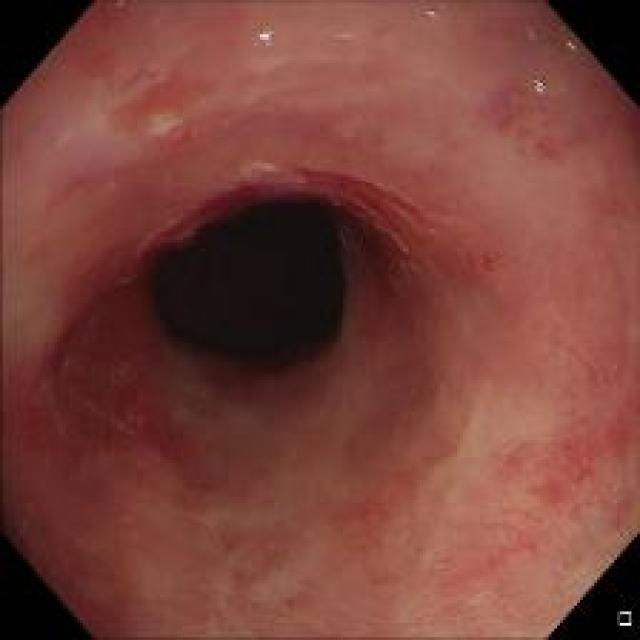color misalignment: (528, 68, 556, 104), (251, 21, 282, 51)
contrast: (138, 170, 359, 385)
